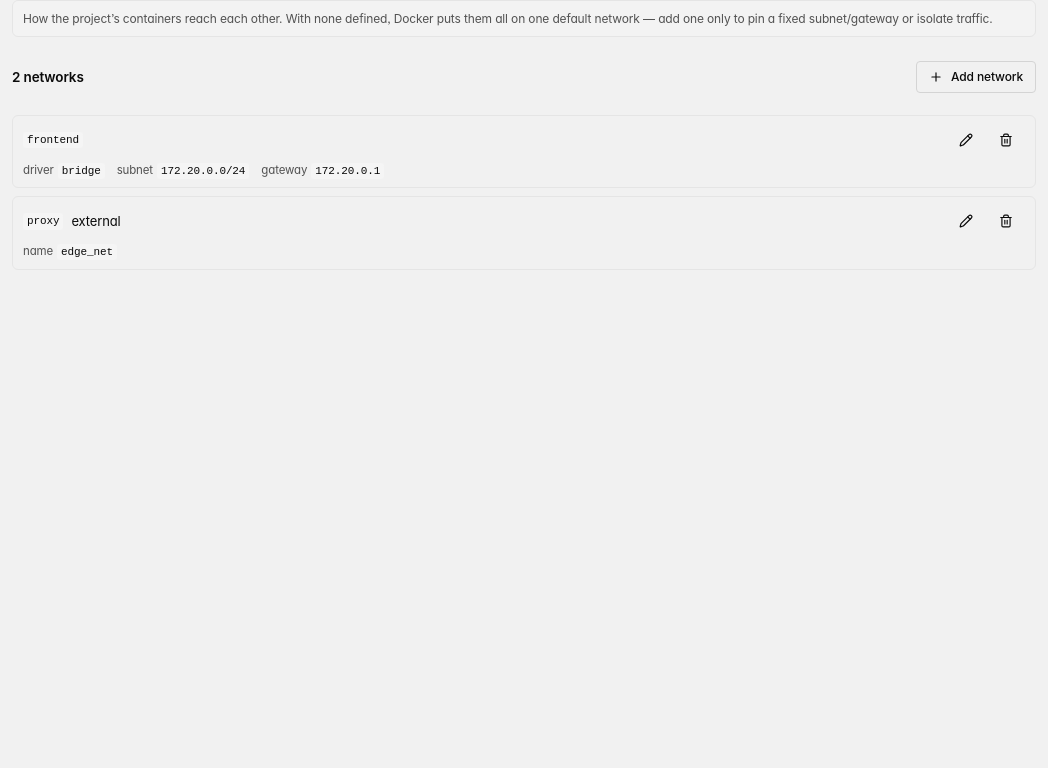
ComposeResourcesPanel — networks › warns when a new subnet overlaps a host network
Click the button "Add network": (976, 77) x1=916 y1=61 x2=1036 y2=93
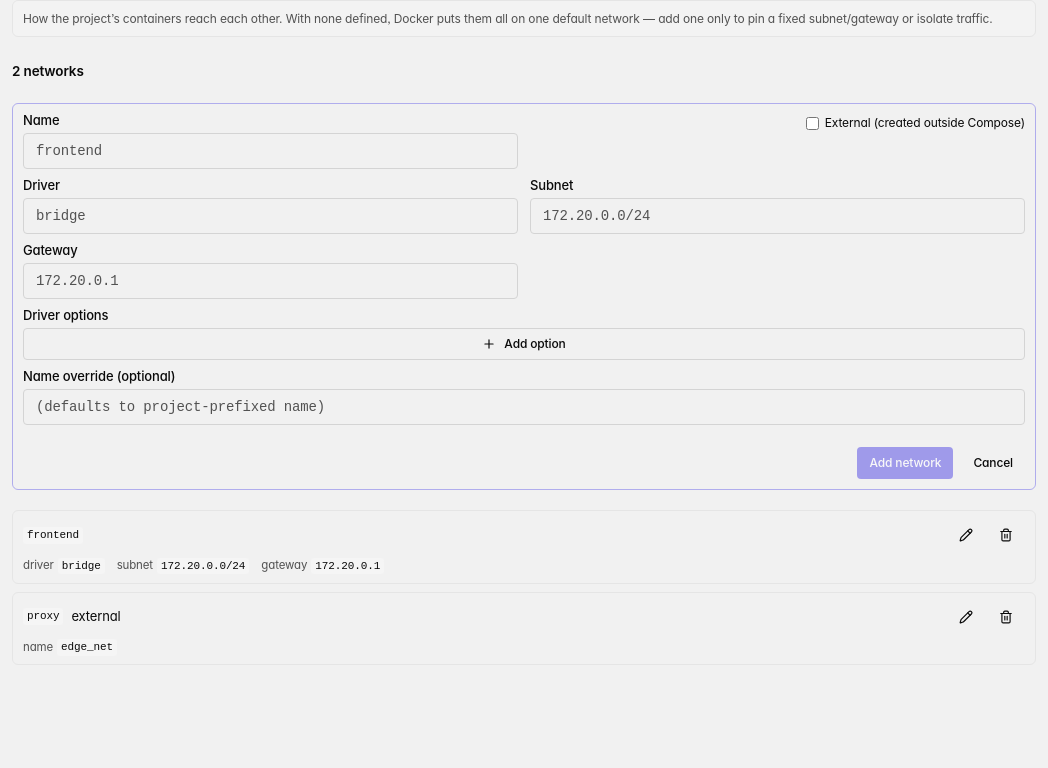
In the field with placeholder "172.20.0.0/24": (778, 216) x1=530 y1=198 x2=1025 y2=234, type "172.20.5.0/24"
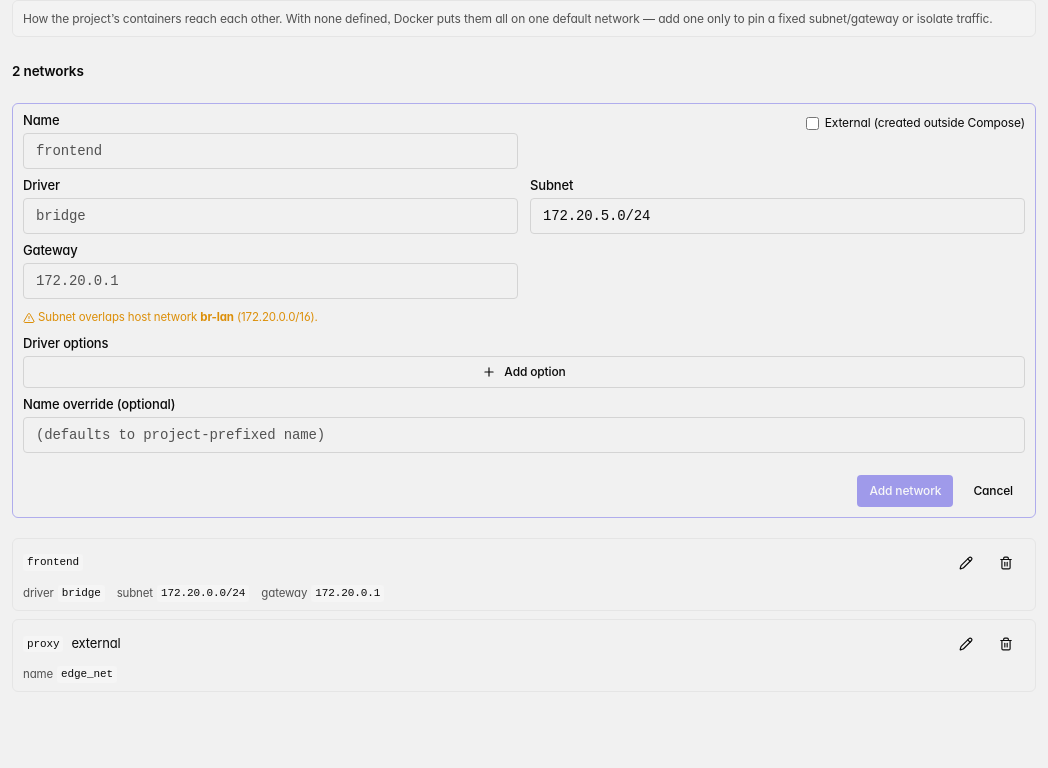
Now the message shows "Subnet overlaps host network", box x1=35 y1=310 x2=197 y2=324
Now the message shows "br-lan", box x1=200 y1=310 x2=234 y2=324
